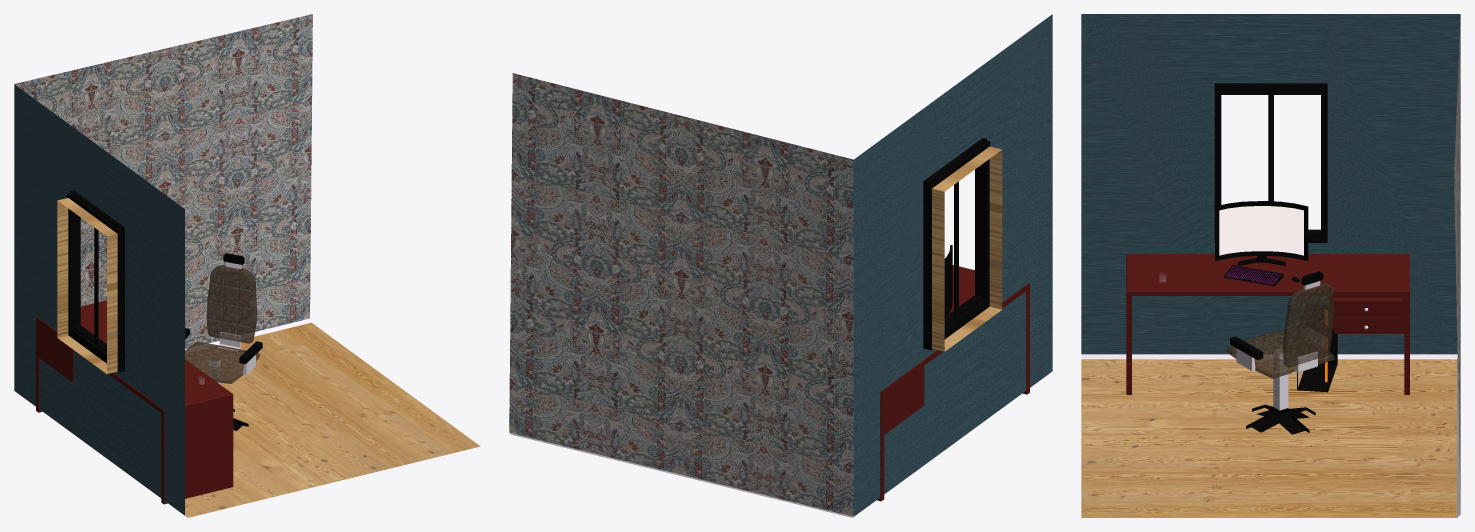
Rendered from home.glb.
The picture shows the model from 3 angles, left to right: view 1: azimuth 30°, elevation 25°; view 2: azimuth 150°, elevation 25°; view 3: azimuth 270°, elevation 25°; orthographic projection. The views are drawn at different scales.
Parts seen in each view (by area): view 1: Cube, Cube.023, Cube.024, Cube.002, Cube.010, Cube.026, Cube.001, Cube.003; view 2: Cube, Cube.023, Cube.026, Cube.001, Cube.002, Cube.003, Cube.025; view 3: Cube.023, Cube.024, Cube.002, Cube.010, Cube.012, Cube.003, Cube, Cube.025, Cube.006, Cube.015, Cube.007, Cube.004 (+2 smaller).
Boxes of the visible parts, x1,y1,x2,y2 form: Cube: (14, 14, 312, 348); Cube.023: (14, 84, 184, 515); Cube.024: (185, 322, 480, 517); Cube.002: (36, 300, 233, 504); Cube.010: (185, 265, 259, 383); Cube.026: (57, 198, 117, 373); Cube.001: (67, 192, 124, 372); Cube.003: (70, 190, 124, 361); Cube: (509, 73, 853, 516); Cube.023: (853, 14, 1052, 516); Cube.026: (932, 146, 1002, 351); Cube.001: (923, 140, 990, 350); Cube.002: (877, 265, 1029, 501); Cube.003: (923, 138, 986, 347); Cube.025: (509, 374, 1048, 517); Cube.023: (1081, 14, 1460, 354); Cube.024: (1081, 359, 1456, 517); Cube.002: (1126, 254, 1409, 394); Cube.010: (1227, 282, 1334, 378); Cube.012: (1219, 206, 1303, 255); Cube.003: (1214, 83, 1327, 242); Cube: (1454, 17, 1460, 507); Cube.025: (1081, 354, 1460, 517); Cube.006: (1215, 201, 1308, 265); Cube.015: (1246, 404, 1315, 434); Cube.007: (1297, 334, 1337, 392); Cube.004: (1223, 265, 1283, 286).
Size of the model in its own units: 2.86 by 2.73 by 2.7.
16 materials, 5 textured.
